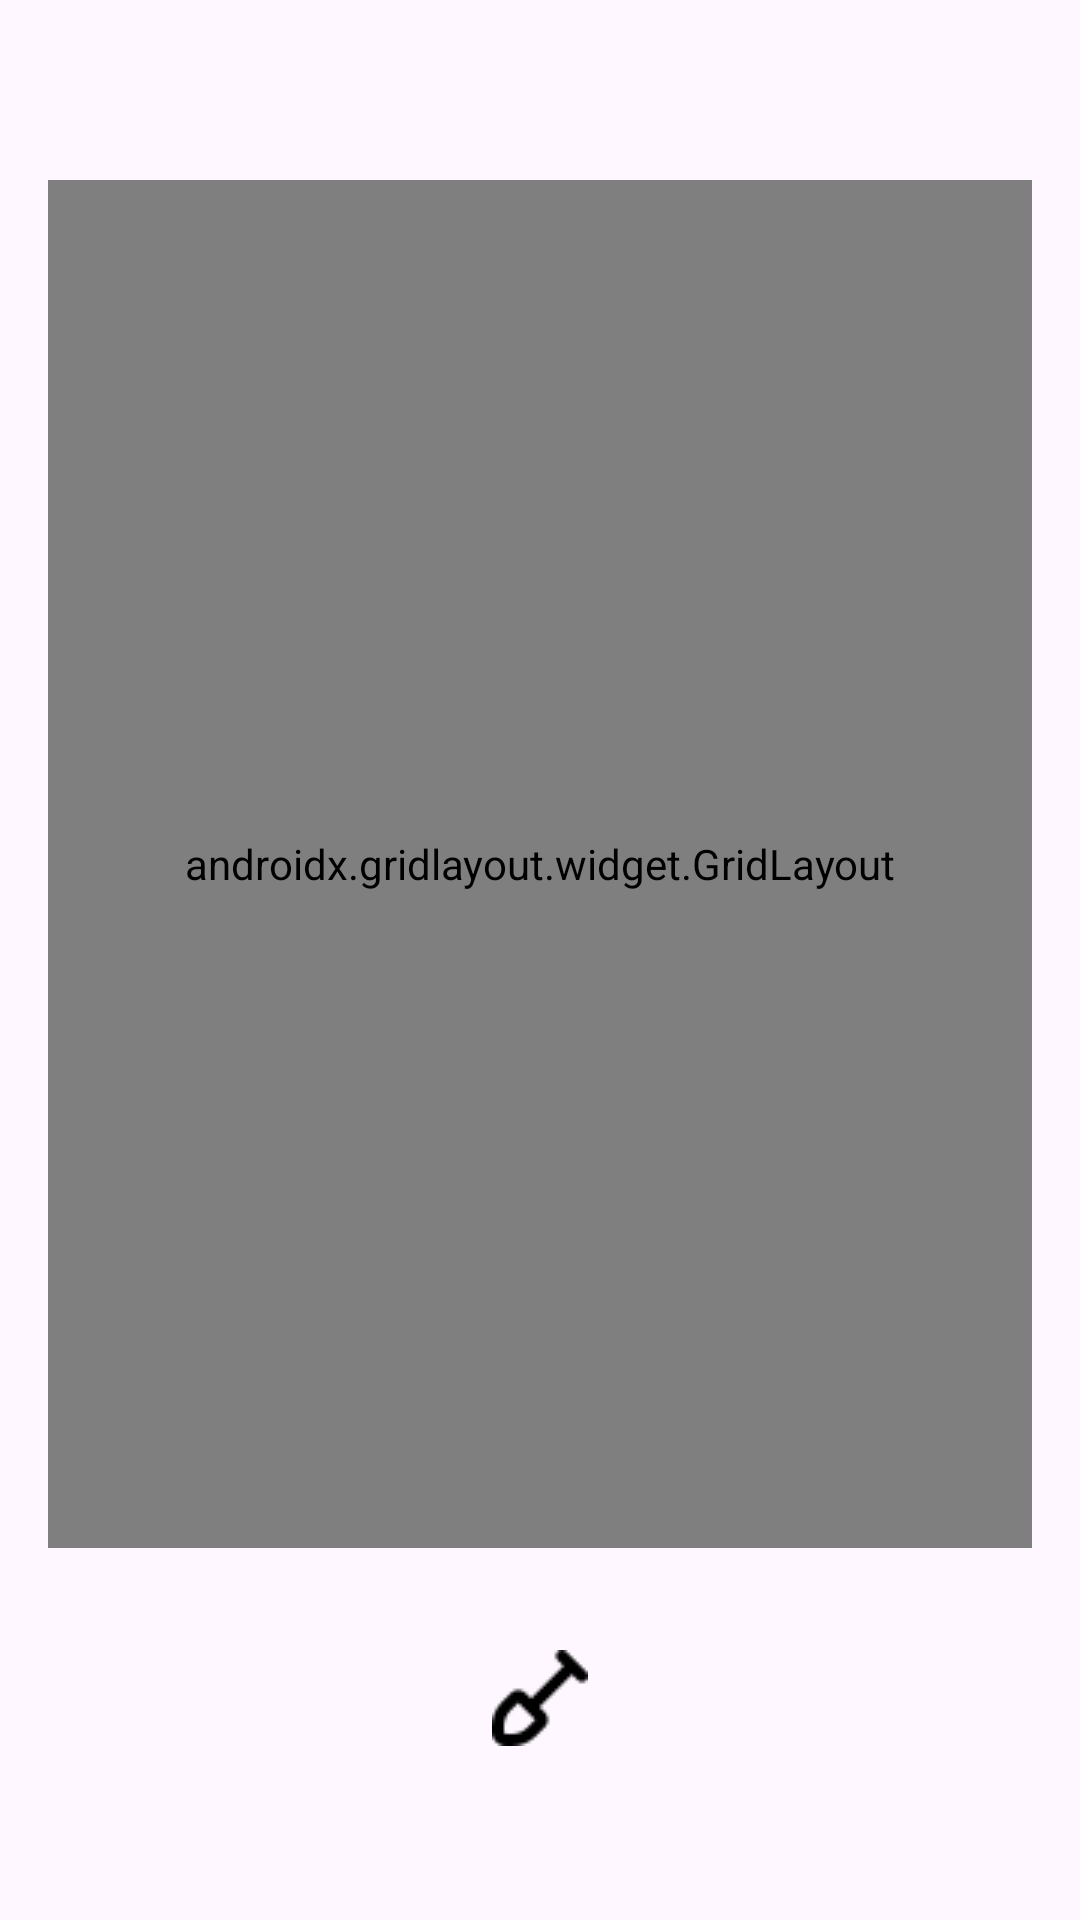

Screen size 1080 x 1920. Icon name, then its center in pixels as [x,y]:
shovel: [540,1698]
